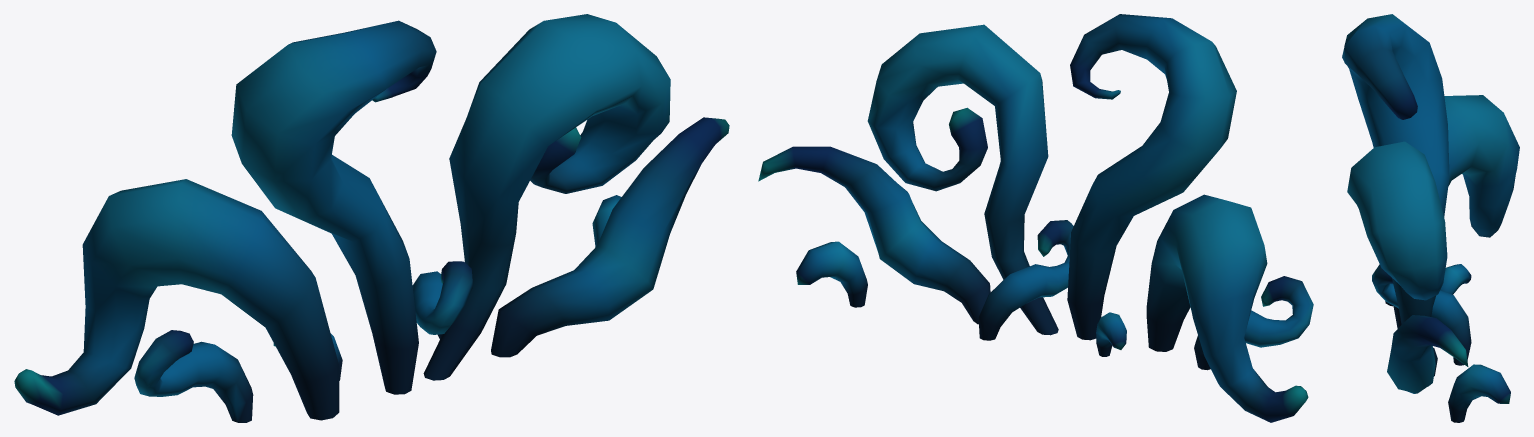
The model's file is Alien_Ivy03.fbx.
3 renders of one model, left to right at view 1: azimuth 30°, elevation 25°; view 2: azimuth 150°, elevation 25°; view 3: azimuth 270°, elevation 25°, orthographic. The views are drawn at different scales.
Visible parts, largest first — view 1: Alien_Ivy03; view 2: Alien_Ivy03; view 3: Alien_Ivy03.
Boxes of the visible parts, x1,y1,x2,y2 form: Alien_Ivy03: (14,14,729,422); Alien_Ivy03: (758,14,1313,422); Alien_Ivy03: (1342,14,1519,422).
Size of the model in its own units: 5569 by 3011 by 1712.
